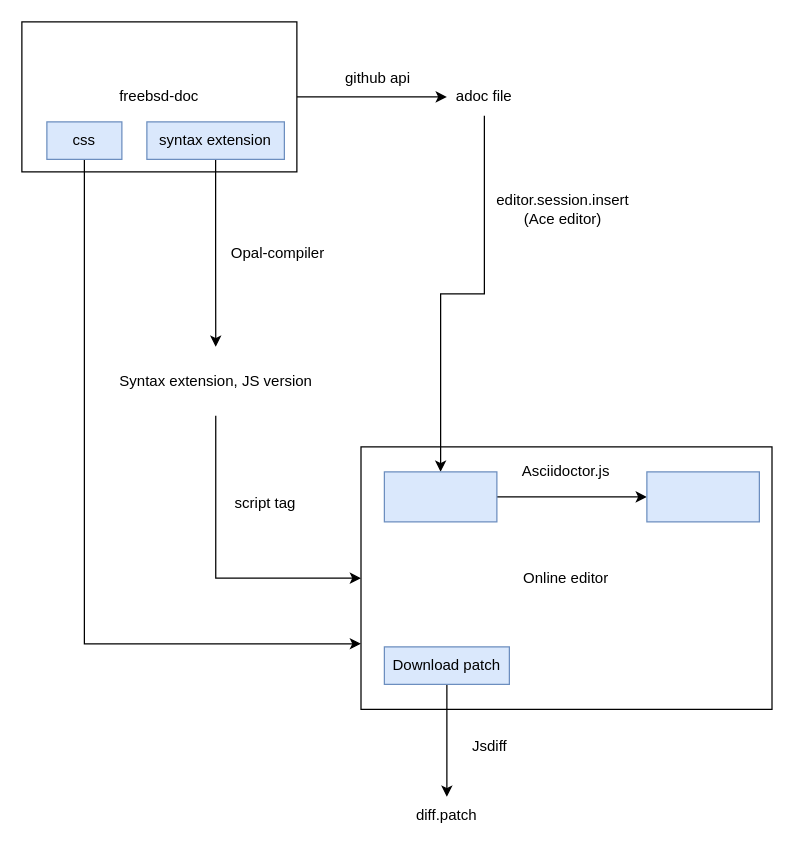
The diagram is 795 pixels wide and 856 high, and some of its shapes have lost their labels. Here are the shapes that lost their labels. From the top down, the centre of each, then its label:
(440,496): Left sectoin
(702,496): Right section HTML output
